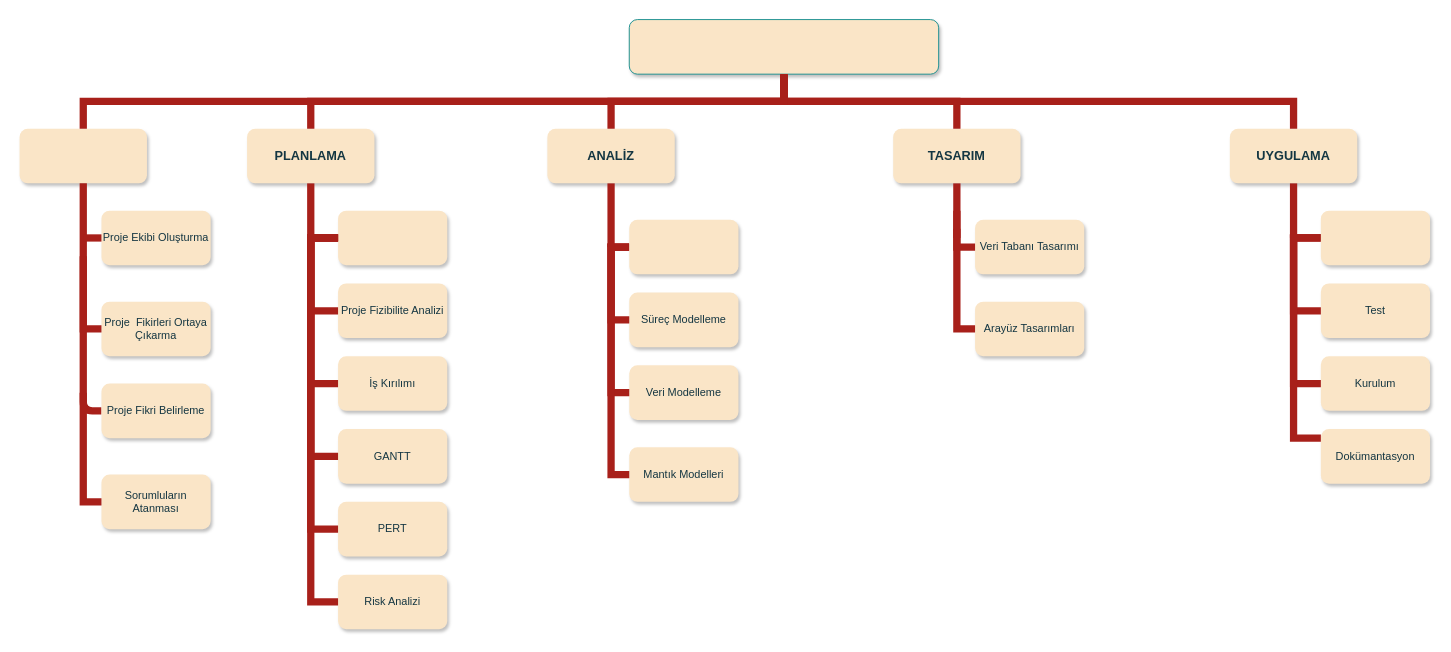
The diagram is 1451 pixels wide and 652 high, and some of its shapes have lost their labels. Here are the shapes that lost their labels. From the top down, the centre of each, then its label:
At (x=784, y=48): "GezWhere".
At (x=83, y=157): "PROJE BAŞLATMA".
At (x=393, y=239): "Proje Beyanı".
At (x=684, y=248): "Gereksinim Analizi".
At (x=1376, y=239): "Kodlama".
